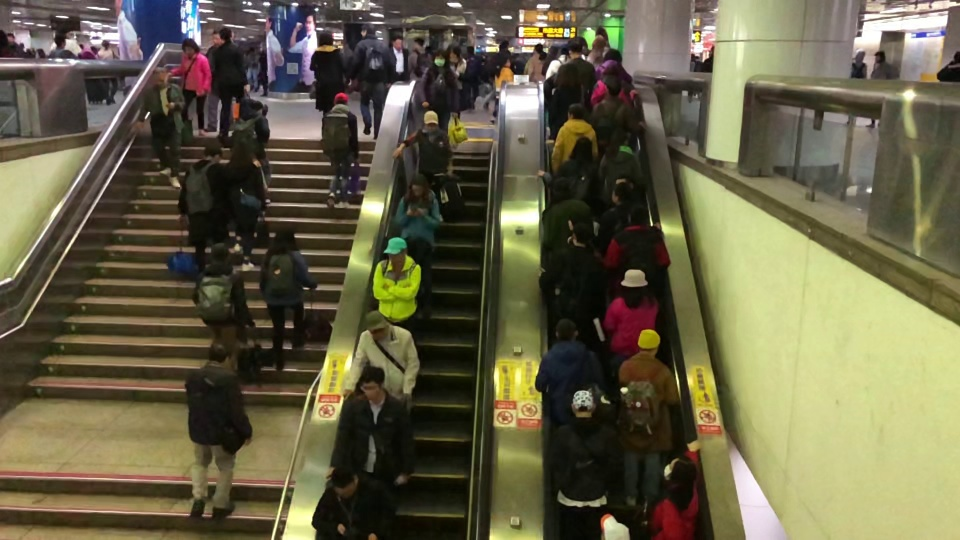person_head: (663, 453, 697, 486), (326, 464, 357, 497), (357, 366, 385, 402), (619, 268, 650, 298), (364, 309, 392, 340), (599, 512, 630, 539), (205, 338, 232, 367), (570, 388, 596, 418), (636, 328, 662, 355), (385, 235, 408, 265), (553, 315, 579, 341), (229, 139, 253, 164), (569, 136, 592, 161), (552, 176, 574, 202), (570, 222, 592, 248), (207, 241, 230, 265), (557, 63, 581, 86), (610, 179, 632, 204), (626, 203, 651, 225), (273, 225, 296, 248), (409, 173, 428, 196), (202, 142, 222, 161), (604, 77, 622, 98), (422, 108, 439, 130), (181, 37, 200, 55), (603, 47, 624, 63), (603, 64, 620, 83), (611, 128, 631, 144), (567, 37, 582, 58), (566, 102, 583, 120), (433, 49, 449, 68), (248, 99, 268, 114), (318, 30, 334, 47), (153, 66, 169, 82), (590, 36, 605, 53), (360, 22, 375, 38), (332, 91, 349, 105), (219, 25, 233, 40), (873, 48, 886, 64), (53, 33, 66, 48), (448, 49, 461, 64), (392, 34, 403, 49), (854, 47, 865, 62), (413, 36, 425, 49), (213, 29, 222, 44), (558, 44, 568, 54), (498, 40, 507, 51), (537, 52, 548, 61), (501, 56, 510, 66), (101, 39, 109, 50), (7, 32, 16, 41), (1, 31, 7, 44), (953, 50, 960, 61), (467, 46, 474, 56), (533, 44, 540, 52), (690, 53, 694, 62), (248, 46, 254, 51)
person_vbox: (183, 338, 253, 518), (616, 327, 681, 507), (323, 366, 416, 490), (550, 389, 616, 526), (258, 223, 318, 373), (193, 240, 255, 372), (339, 309, 421, 404), (176, 142, 231, 275), (532, 316, 601, 422), (391, 109, 455, 223), (594, 203, 673, 295), (537, 220, 605, 325), (393, 173, 440, 318), (133, 65, 186, 190), (600, 268, 659, 379), (310, 464, 392, 540), (649, 438, 703, 539), (350, 21, 396, 139), (227, 138, 267, 273), (322, 91, 361, 209), (231, 98, 273, 204), (372, 235, 419, 328), (212, 26, 249, 144), (601, 182, 662, 253), (169, 37, 212, 136), (540, 175, 595, 251), (537, 136, 598, 203), (598, 127, 646, 208), (546, 63, 591, 139), (591, 76, 648, 136), (550, 101, 597, 173), (421, 49, 460, 131), (309, 29, 345, 114), (866, 49, 900, 133), (552, 37, 596, 91), (590, 64, 638, 108), (203, 29, 223, 130), (489, 54, 515, 122), (845, 46, 867, 126), (95, 41, 120, 105), (545, 43, 586, 80), (595, 47, 632, 82), (408, 36, 433, 80), (467, 45, 481, 109), (935, 49, 960, 82), (391, 34, 408, 82), (448, 48, 467, 89), (48, 32, 76, 59), (587, 35, 609, 64), (246, 45, 259, 92), (523, 42, 543, 71), (533, 52, 548, 81), (687, 53, 695, 103)
